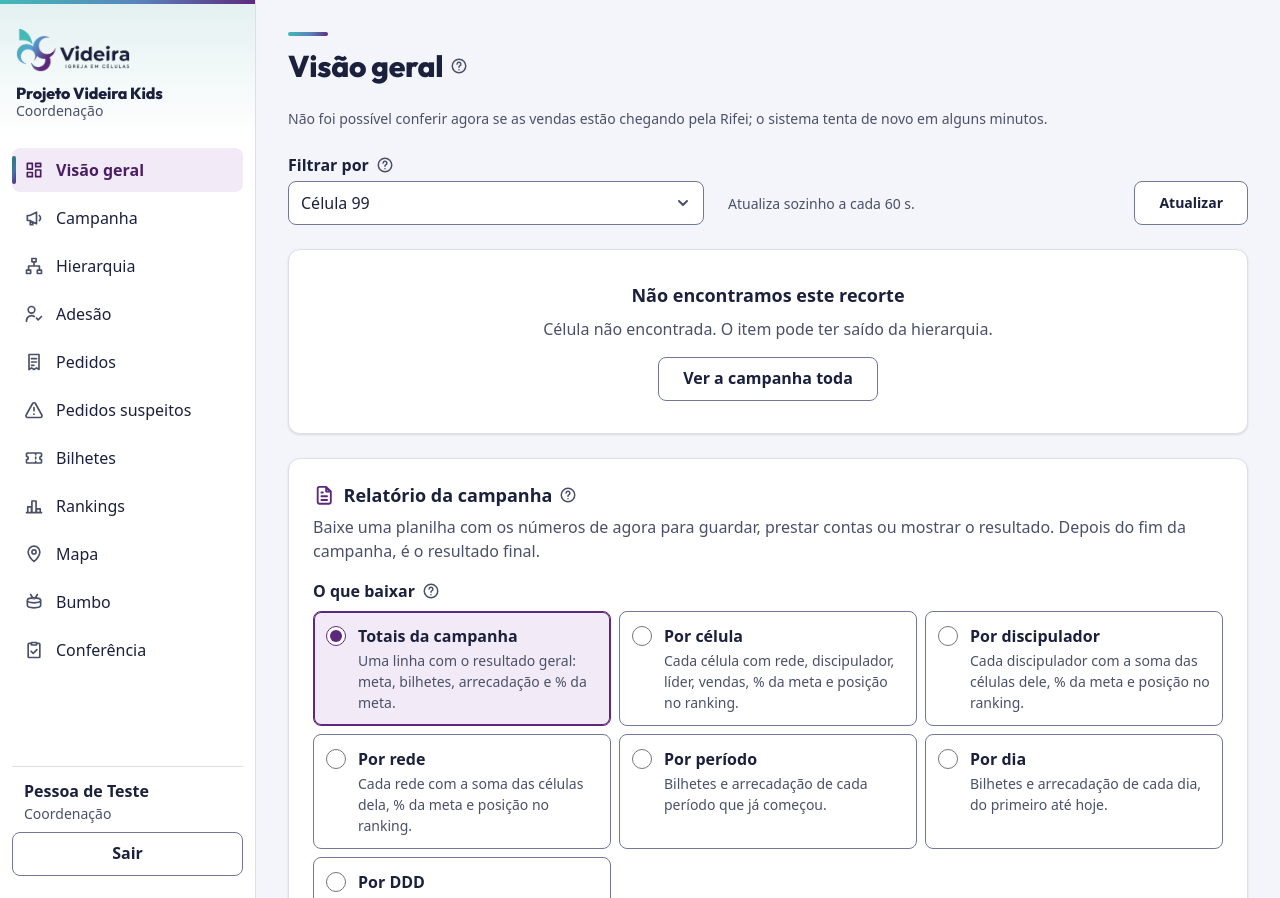
CA5: estados › 404 num recorte que não existe: avisa e leva à campanha toda
Expected: the text "Não encontramos este recorte" is shown, top-left (631, 282), bottom-right (904, 309)
Expected: the text "Célula não encontrada. O item pode ter saído da hierarquia." is shown, top-left (543, 317), bottom-right (993, 341)
What coordinates should you click on to do the following:
click the button "Ver a campanha toda"
I would click on:
 (768, 379)
Its box is top-left (658, 357), bottom-right (878, 401).
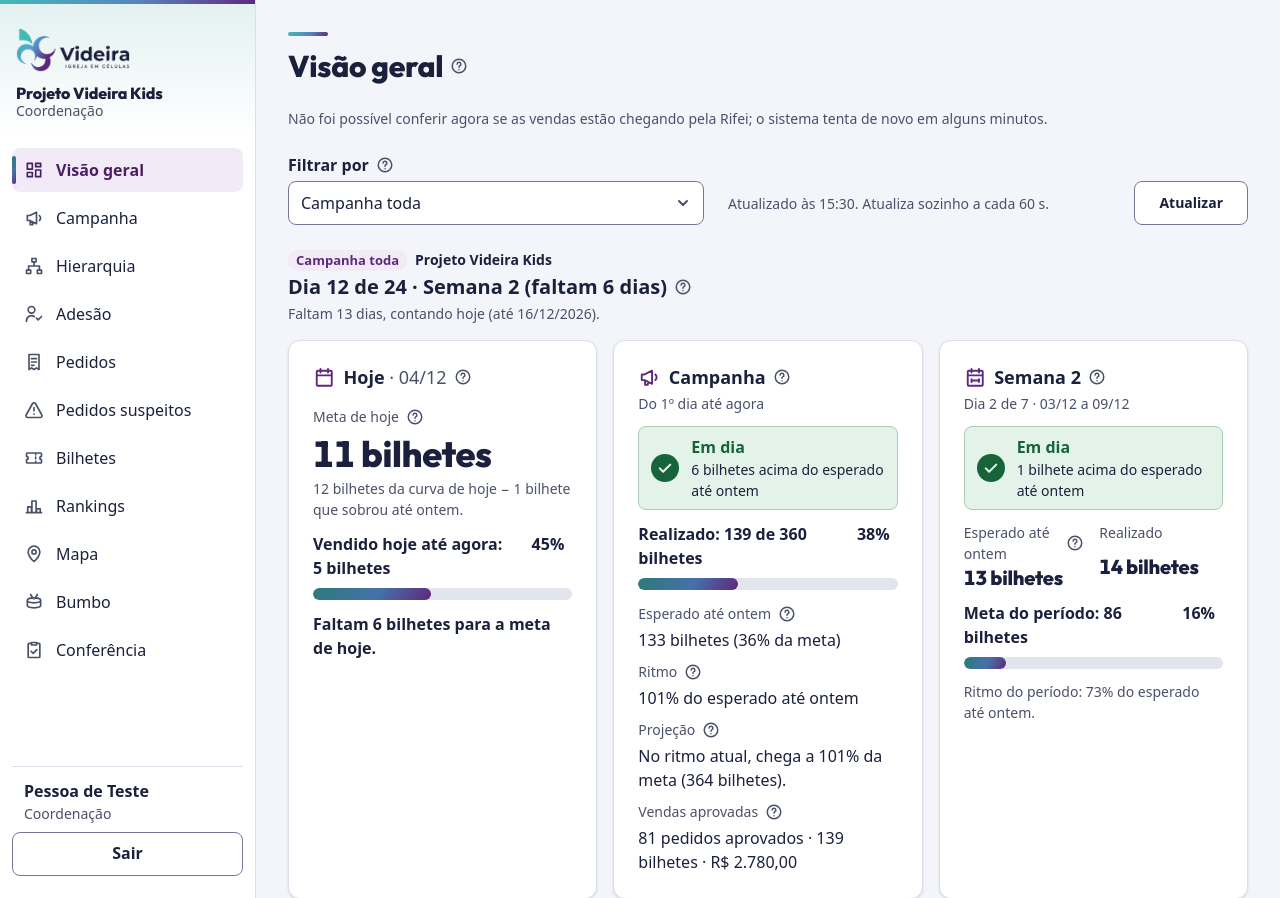
Expected: the text "Atualizado às 15:30. Atualiza sozinho a cada 60 s." is shown, top-left (728, 194), bottom-right (1049, 212)
Expected: the element "Dia 12 de 24" shows "Campanha toda", top-left (296, 251), bottom-right (399, 269)
